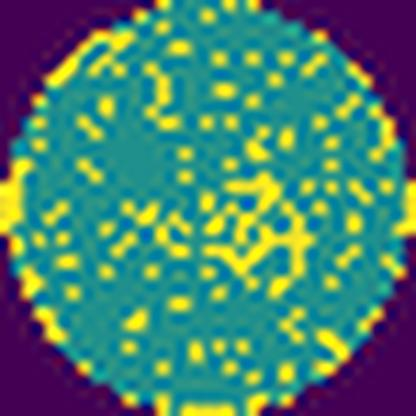Loc: (203, 171, 317, 294)
